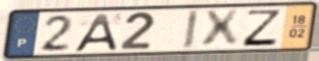2: (118, 10, 159, 53), (38, 14, 76, 54)
A: (72, 12, 120, 53)
I: (181, 8, 201, 51)
X: (200, 8, 241, 50)
Z: (240, 9, 284, 48)
